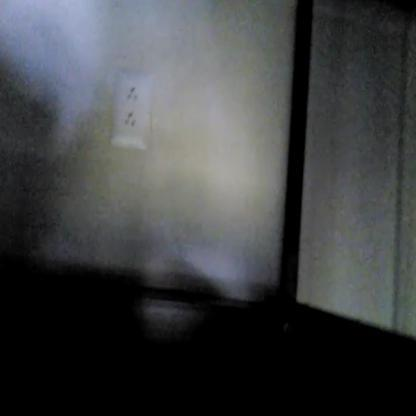OUTLET: (111, 72, 149, 150)
